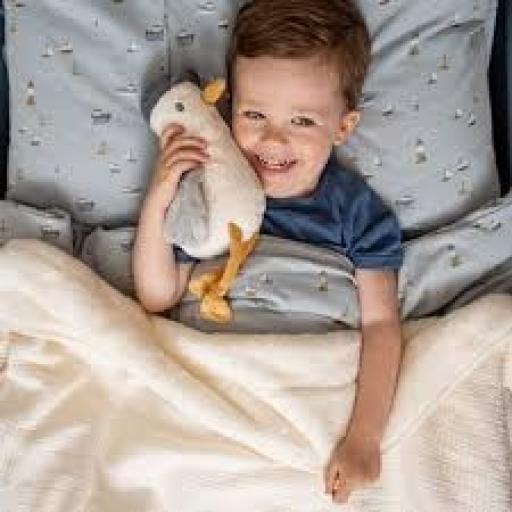baby: (228, 0, 402, 502)
